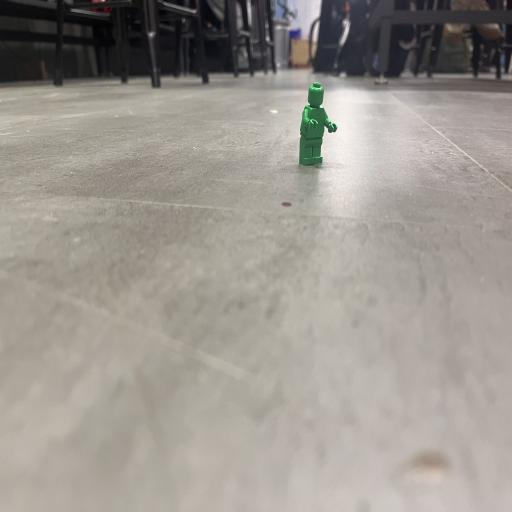Lego-Minifig: (299, 82, 337, 165)
